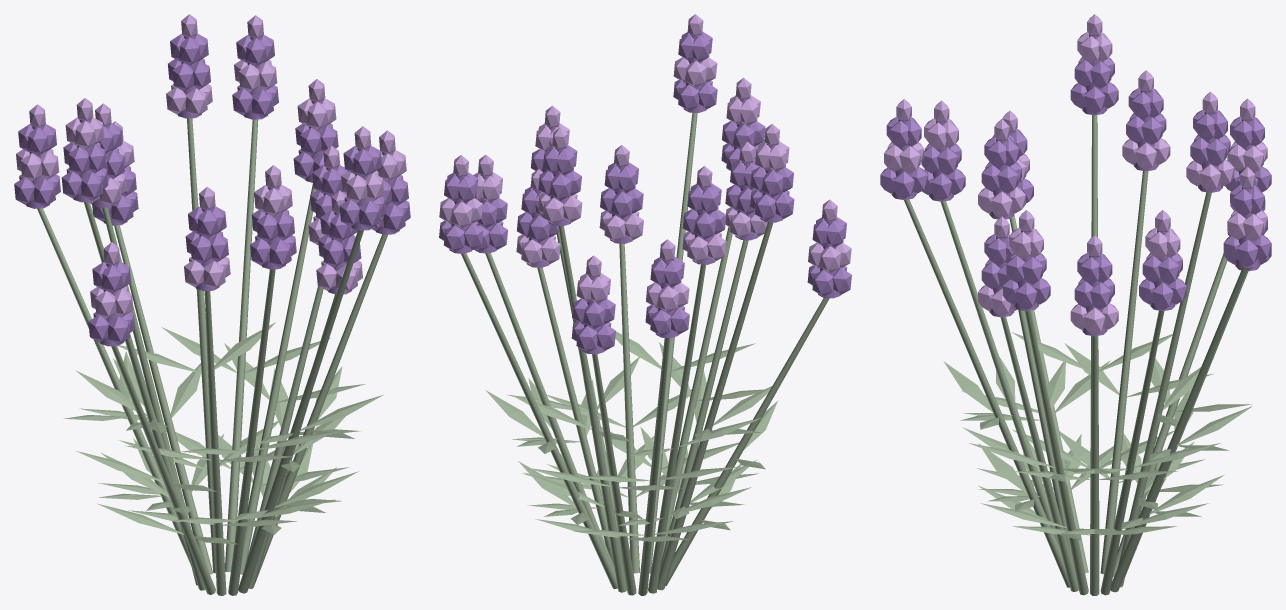
Rendered from bush_lavender_like.glb.
3 views of the same model, side by side, from view 1: azimuth 30°, elevation 25°; view 2: azimuth 150°, elevation 25°; view 3: azimuth 270°, elevation 25° (orthographic). The views are drawn at different scales.
Visible parts, largest first — view 1: Lavender_Like_Flower_Stem_02, Lavender_Like_Flower_Stem_11, Lavender_Like_Flower_Stem_01, Lavender_Like_Flower_Stem_10, Lavender_Like_Flower_Stem_04, Lavender_Like_Flower_Stem_09, Lavender_Like_Flower_Stem_05, Lavender_Like_Flower_Stem_03, Lavender_Like_Flower_Stem_13, Lavender_Like_Flower_Stem_08, Lavender_Like_Flower_Stem_00, Lavender_Like_Flower_Stem_07 (+7 smaller); view 2: Lavender_Like_Flower_Stem_07, Lavender_Like_Flower_Stem_02, Lavender_Like_Flower_Stem_03, Lavender_Like_Flower_Stem_06, Lavender_Like_Flower_Stem_12, Lavender_Like_Flower_Stem_08, Lavender_Like_Flower_Stem_10, Lavender_Like_Flower_Stem_00, Lavender_Like_Flower_Stem_01, Lavender_Like_Flower_Stem_09, Lavender_Like_Flower_Stem_05, Lavender_Like_Flower_Stem_04 (+3 smaller); view 3: Lavender_Like_Flower_Stem_06, Lavender_Like_Flower_Stem_11, Lavender_Like_Flower_Stem_03, Lavender_Like_Flower_Stem_02, Lavender_Like_Flower_Stem_10, Lavender_Like_Flower_Stem_01, Lavender_Like_Flower_Stem_13, Lavender_Like_Flower_Stem_12, Lavender_Like_Flower_Stem_00, Lavender_Like_Flower_Stem_05, Lavender_Like_Flower_Stem_09, Lavender_Like_Flower_Stem_07 (+7 smaller).
Boxes of the visible parts, <box> form: Lavender_Like_Flower_Stem_02: <box>225,119,258,571</box>; Lavender_Like_Flower_Stem_11: <box>238,230,363,593</box>; Lavender_Like_Flower_Stem_01: <box>240,183,316,574</box>; Lavender_Like_Flower_Stem_10: <box>228,269,275,595</box>; Lavender_Like_Flower_Stem_04: <box>114,225,212,574</box>; Lavender_Like_Flower_Stem_09: <box>204,291,226,595</box>; Lavender_Like_Flower_Stem_05: <box>37,208,191,565</box>; Lavender_Like_Flower_Stem_03: <box>187,118,215,573</box>; Lavender_Like_Flower_Stem_13: <box>255,234,387,583</box>; Lavender_Like_Flower_Stem_08: <box>111,346,215,594</box>; Lavender_Like_Flower_Stem_00: <box>244,286,323,569</box>; Lavender_Like_Flower_Stem_07: <box>84,202,205,590</box>; Lavender_Like_Flower_Stem_07: <box>657,222,773,590</box>; Lavender_Like_Flower_Stem_02: <box>461,253,617,588</box>; Lavender_Like_Flower_Stem_03: <box>558,226,626,592</box>; Lavender_Like_Flower_Stem_06: <box>648,264,705,593</box>; Lavender_Like_Flower_Stem_12: <box>619,243,639,573</box>; Lavender_Like_Flower_Stem_08: <box>665,298,829,585</box>; Lavender_Like_Flower_Stem_10: <box>661,227,732,559</box>; Lavender_Like_Flower_Stem_00: <box>537,267,614,565</box>; Lavender_Like_Flower_Stem_01: <box>485,253,614,570</box>; Lavender_Like_Flower_Stem_09: <box>659,240,748,572</box>; Lavender_Like_Flower_Stem_05: <box>638,338,669,595</box>; Lavender_Like_Flower_Stem_04: <box>592,354,636,595</box>; Lavender_Like_Flower_Stem_06: <box>1100,171,1148,574</box>; Lavender_Like_Flower_Stem_11: <box>904,199,1069,587</box>; Lavender_Like_Flower_Stem_03: <box>1117,192,1211,587</box>; Lavender_Like_Flower_Stem_02: <box>1110,267,1247,592</box>; Lavender_Like_Flower_Stem_10: <box>940,201,1059,545</box>; Lavender_Like_Flower_Stem_01: <box>1100,310,1164,595</box>; Lavender_Like_Flower_Stem_13: <box>1025,310,1088,595</box>; Lavender_Like_Flower_Stem_12: <box>1000,317,1078,591</box>; Lavender_Like_Flower_Stem_00: <box>1090,336,1099,595</box>; Lavender_Like_Flower_Stem_05: <box>1113,253,1227,576</box>; Lavender_Like_Flower_Stem_09: <box>1018,310,1074,568</box>; Lavender_Like_Flower_Stem_07: <box>1090,115,1099,565</box>.
Bounding box in the file's own units: 0.5252 × 0.7969 × 0.561.
